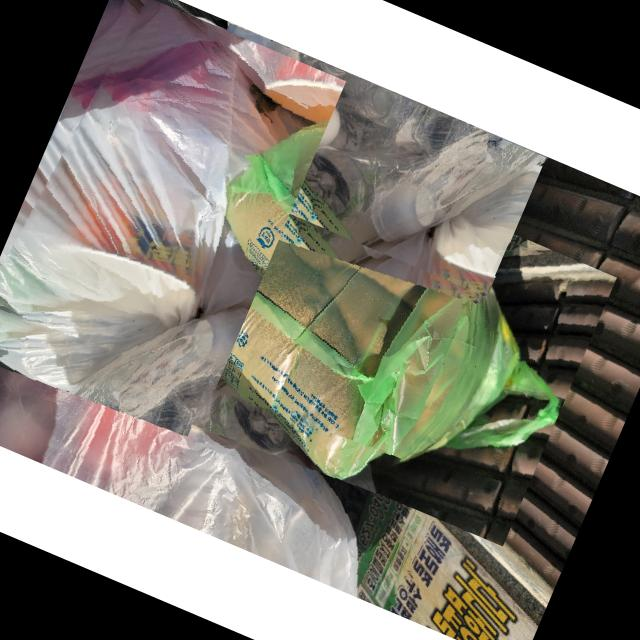general_trashbag: (168, 182, 557, 484)
other_trashbag: (0, 0, 294, 370), (0, 348, 358, 594), (213, 22, 543, 242)
